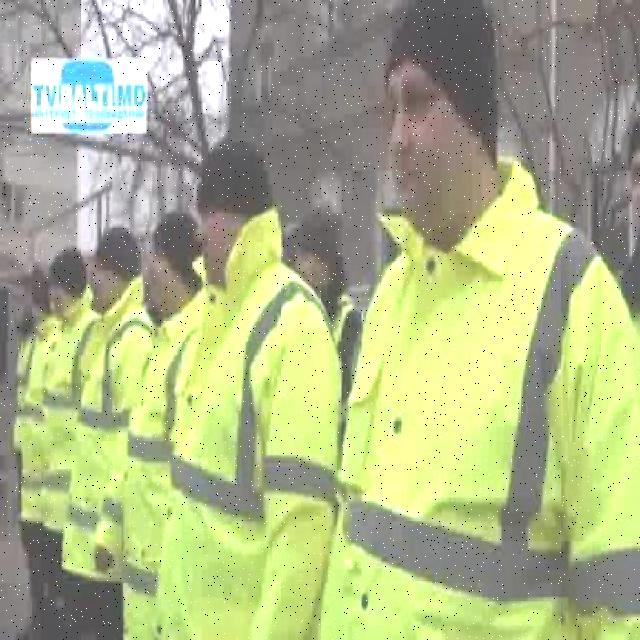Mask: (316, 154, 638, 638), (152, 202, 346, 638), (59, 276, 156, 586), (122, 282, 204, 638), (36, 282, 104, 536), (16, 314, 61, 531)
